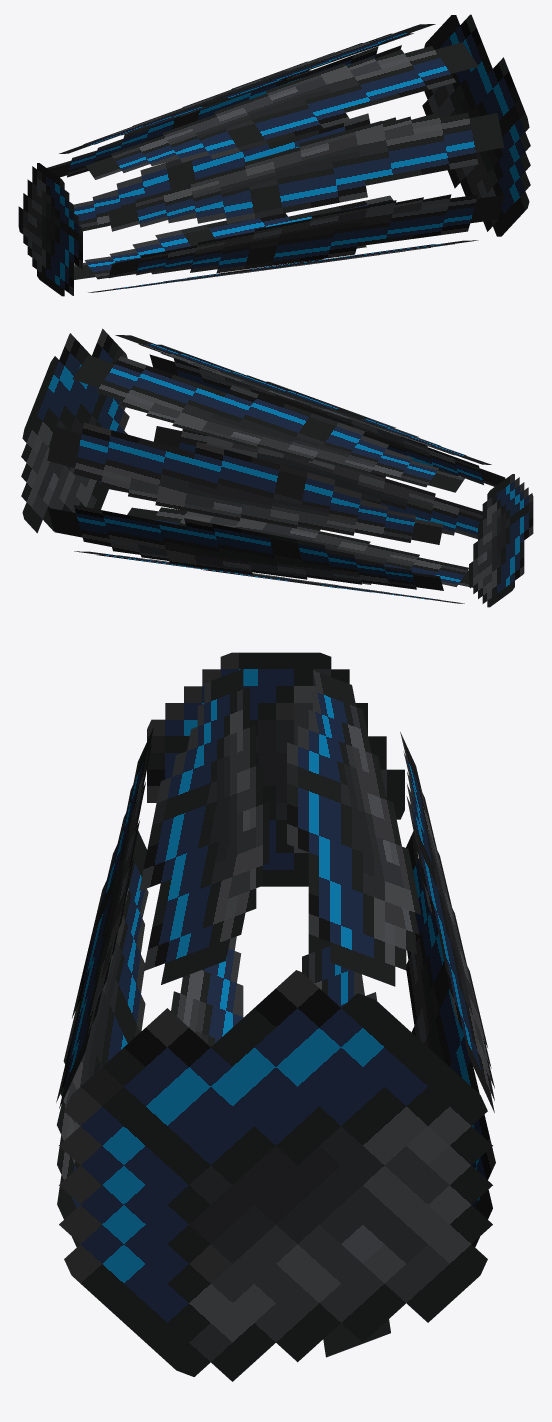
Rendered from flux_ship.obj.
The picture shows the model from 3 angles, top to bottom: view 1: azimuth 30°, elevation 25°; view 2: azimuth 150°, elevation 25°; view 3: azimuth 270°, elevation 25°; orthographic projection. The views are drawn at different scales.
Visible parts, largest first — view 1: Cube.001_Cube.000; view 2: Cube.001_Cube.000; view 3: Cube.001_Cube.000.
Boxes of the visible parts, box(x1,y1,x2,y2) form: Cube.001_Cube.000: box(18, 14, 530, 296); Cube.001_Cube.000: box(21, 328, 533, 607); Cube.001_Cube.000: box(56, 652, 495, 1381).
Size of the model in its own units: 4 by 2 by 2.
